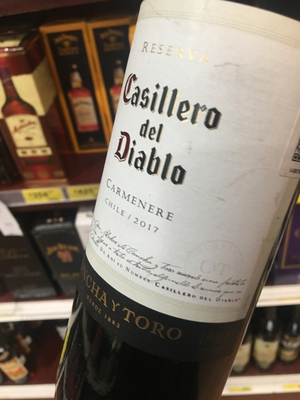casillero del diablo carmenere: (82, 6, 300, 368)
